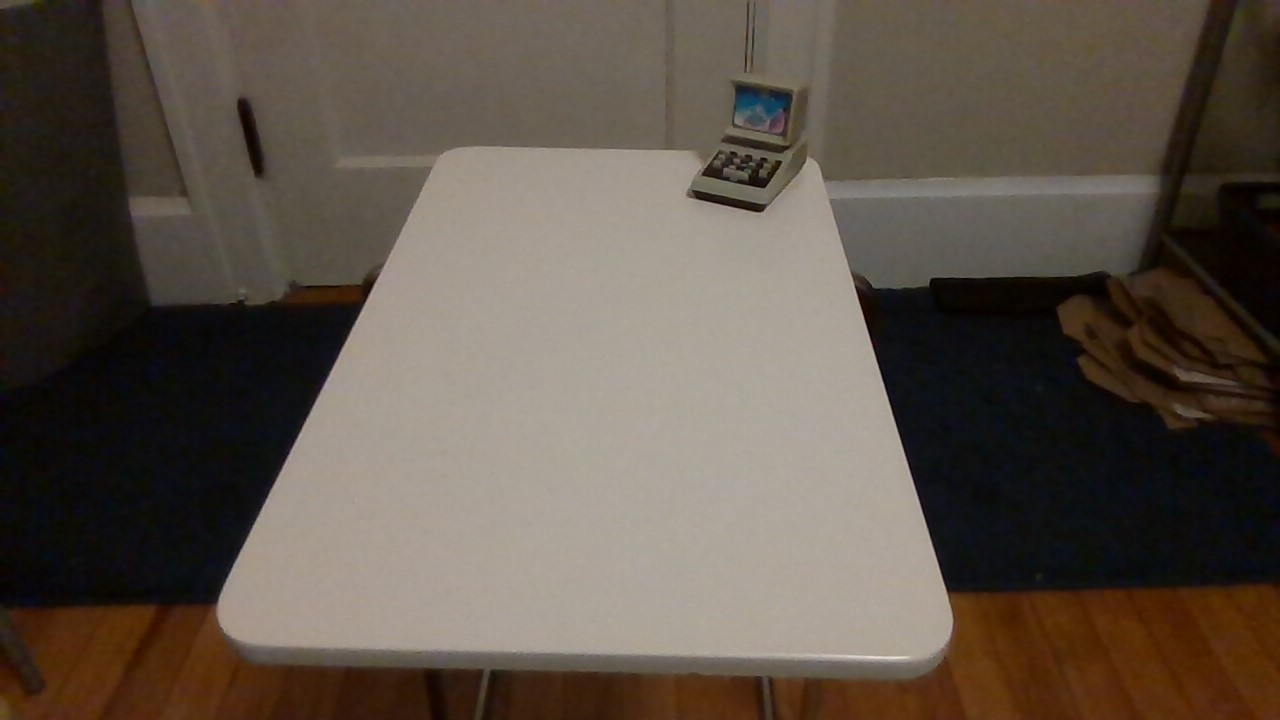Toy: (690, 60, 828, 226)
